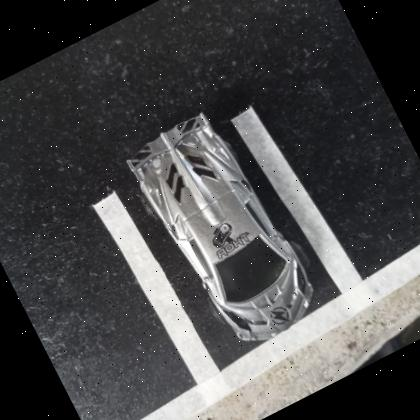Car: (126, 111, 313, 340)
